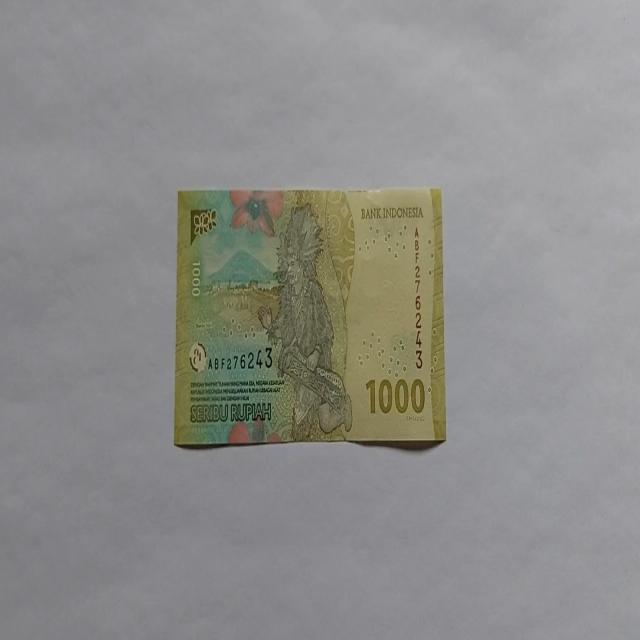seribu rupiah kertas: (174, 185, 446, 448)
